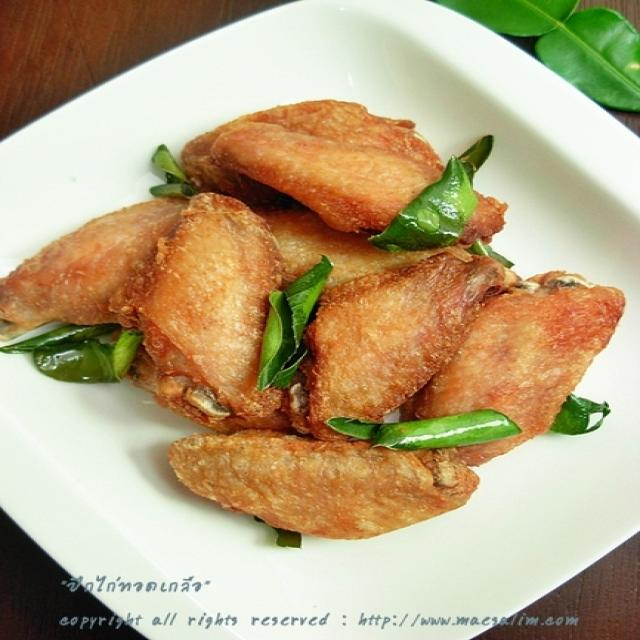鸡肉料理 含炸鸡: (12, 29, 635, 589)
